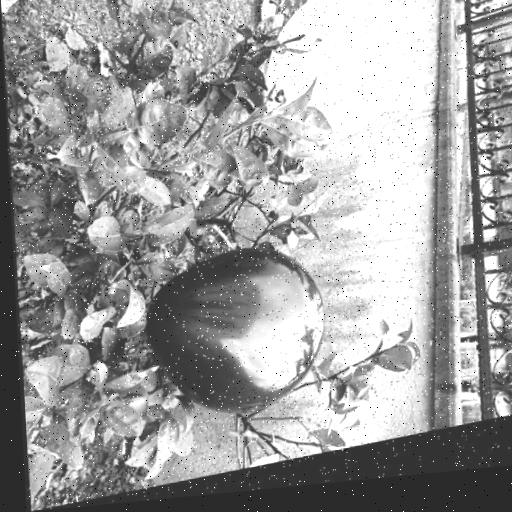balloon: (143, 241, 329, 433), (256, 0, 422, 162)
